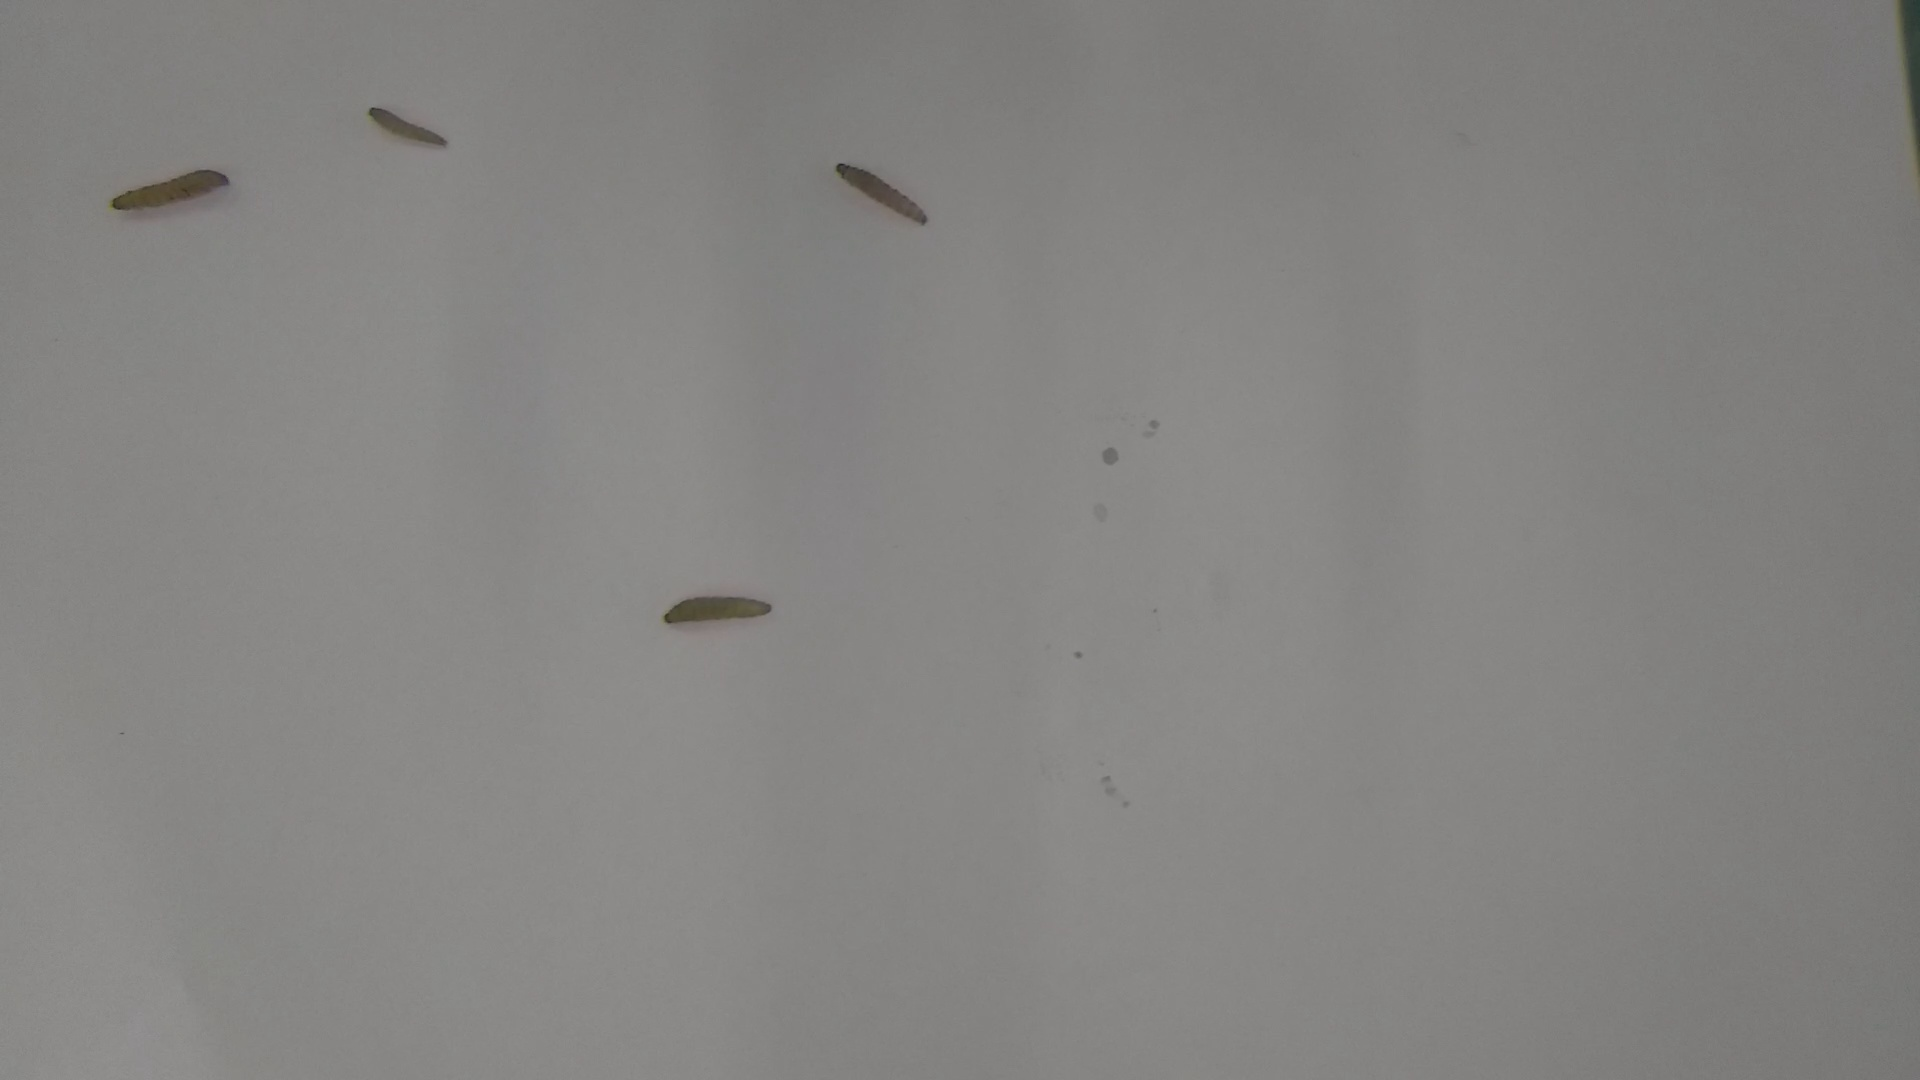efsb: (823, 160, 942, 231), (102, 165, 241, 218), (651, 585, 778, 630), (359, 102, 456, 160)
